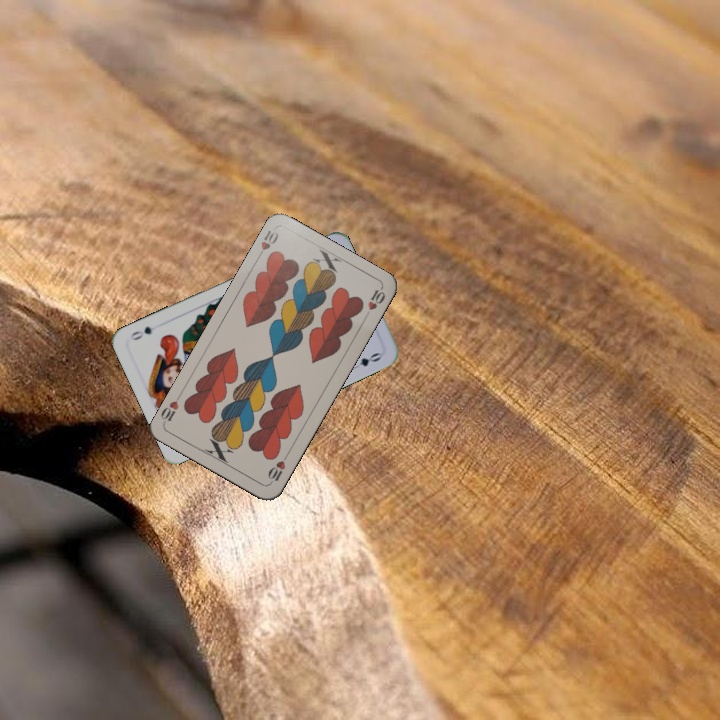H10: (253, 226, 281, 262), (264, 449, 291, 486)
